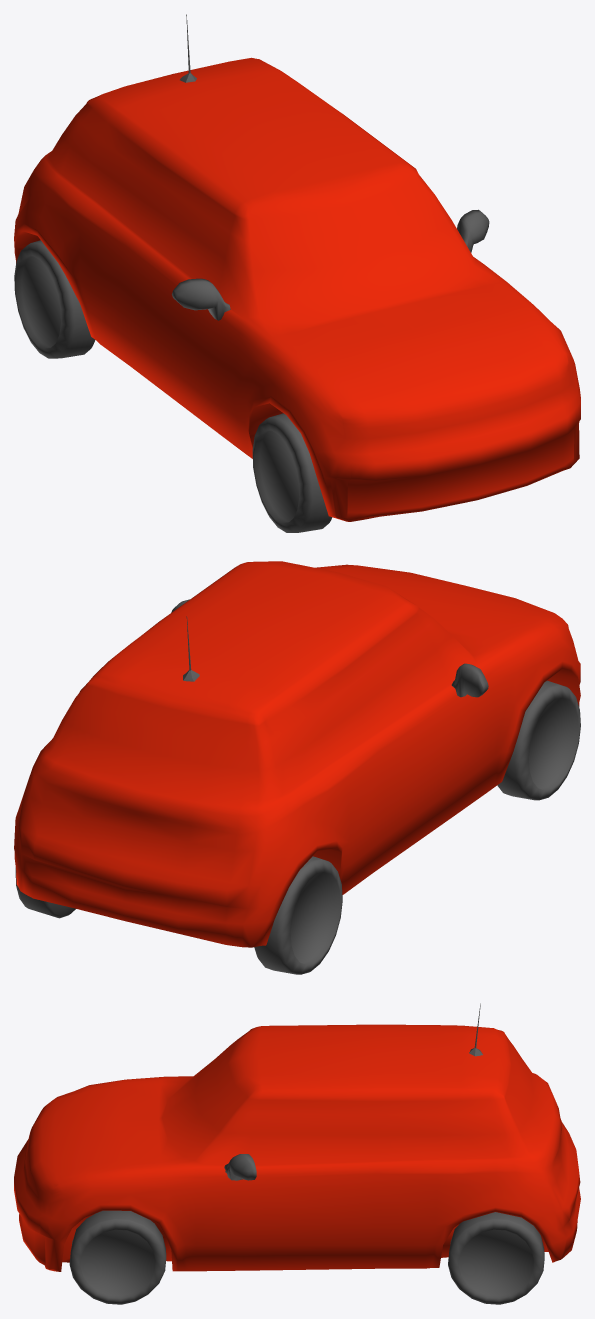
File: MiniCar.fbx
3 renders of one model, top to bottom at view 1: azimuth 30°, elevation 25°; view 2: azimuth 150°, elevation 25°; view 3: azimuth 270°, elevation 25°, orthographic. The views are drawn at different scales.
Parts seen in each view (by area): view 1: polySurface5; view 2: polySurface5; view 3: polySurface5.
Boxes of the visible parts, x1,y1,x2,y2 form: polySurface5: (14,14,580,532); polySurface5: (14,561,580,974); polySurface5: (14,1003,580,1304).
Bounding box in the file's own units: 15.85 × 15.36 × 31.33.
